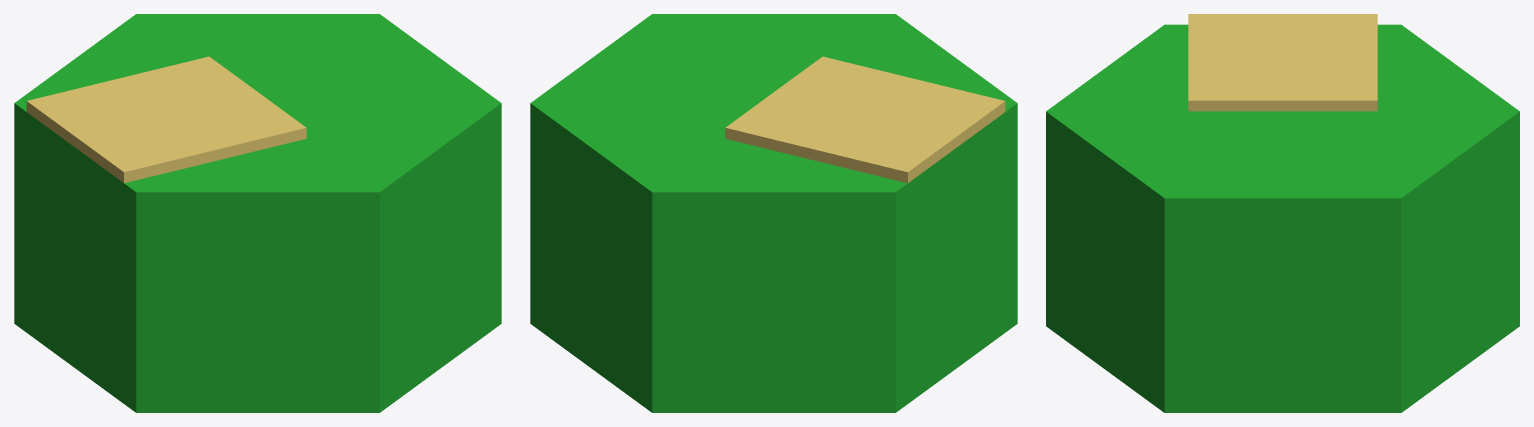
Rendered from path-end_corner.glb.
The picture shows the model from 3 angles, left to right: view 1: azimuth 30°, elevation 25°; view 2: azimuth 150°, elevation 25°; view 3: azimuth 270°, elevation 25°; orthographic projection. The views are drawn at different scales.
Parts seen in each view (by area): view 1: path-end_corner; view 2: path-end_corner; view 3: path-end_corner.
Boxes of the visible parts, box(x1,y1,x2,y2) form: path-end_corner: box(14, 14, 501, 412); path-end_corner: box(530, 14, 1017, 412); path-end_corner: box(1046, 14, 1519, 412).
Size of the model in its own units: 0.866 by 0.525 by 1.
